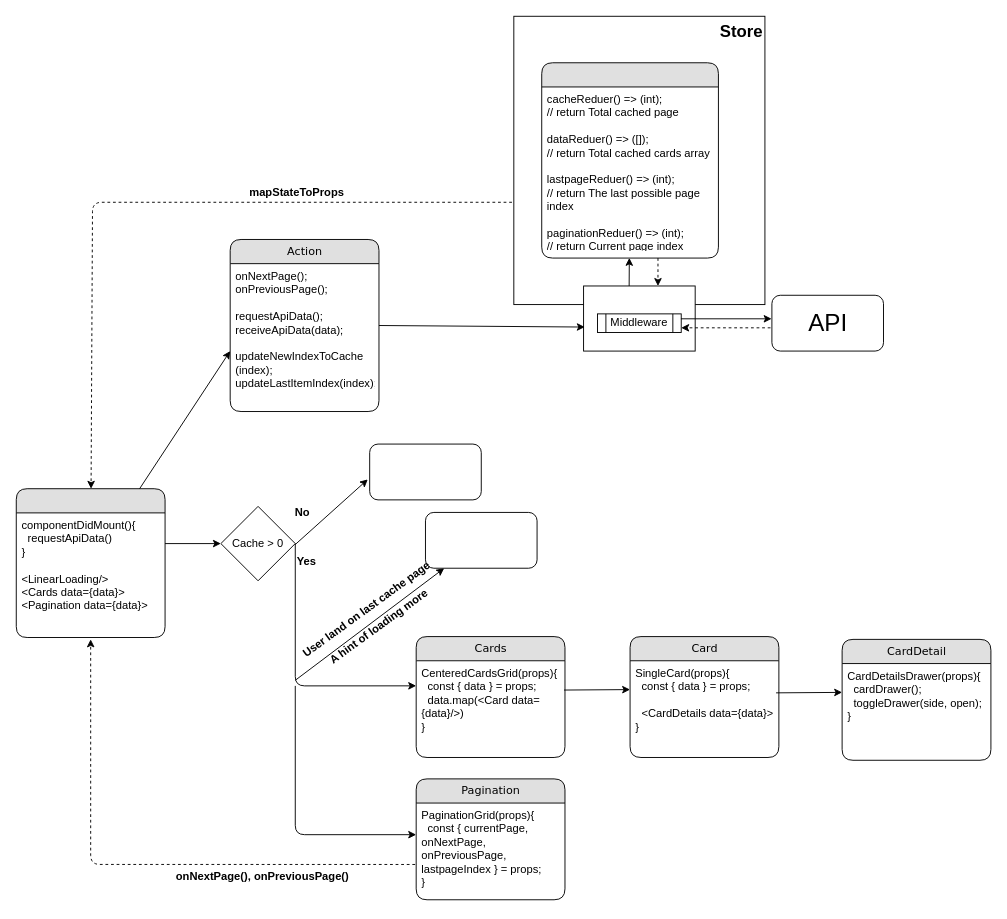
Some shapes in this 1007 by 919 pixel diagram are drawn without their labels. Here are the shapes that lost their labels. From the top down, the box of each, then its label:
(541, 62, 718, 258): Reducer
(583, 285, 695, 351): Dispatcher
(369, 443, 481, 500): Circular Loading
(425, 512, 537, 568): Linear Loading
(15, 488, 165, 638): Home
